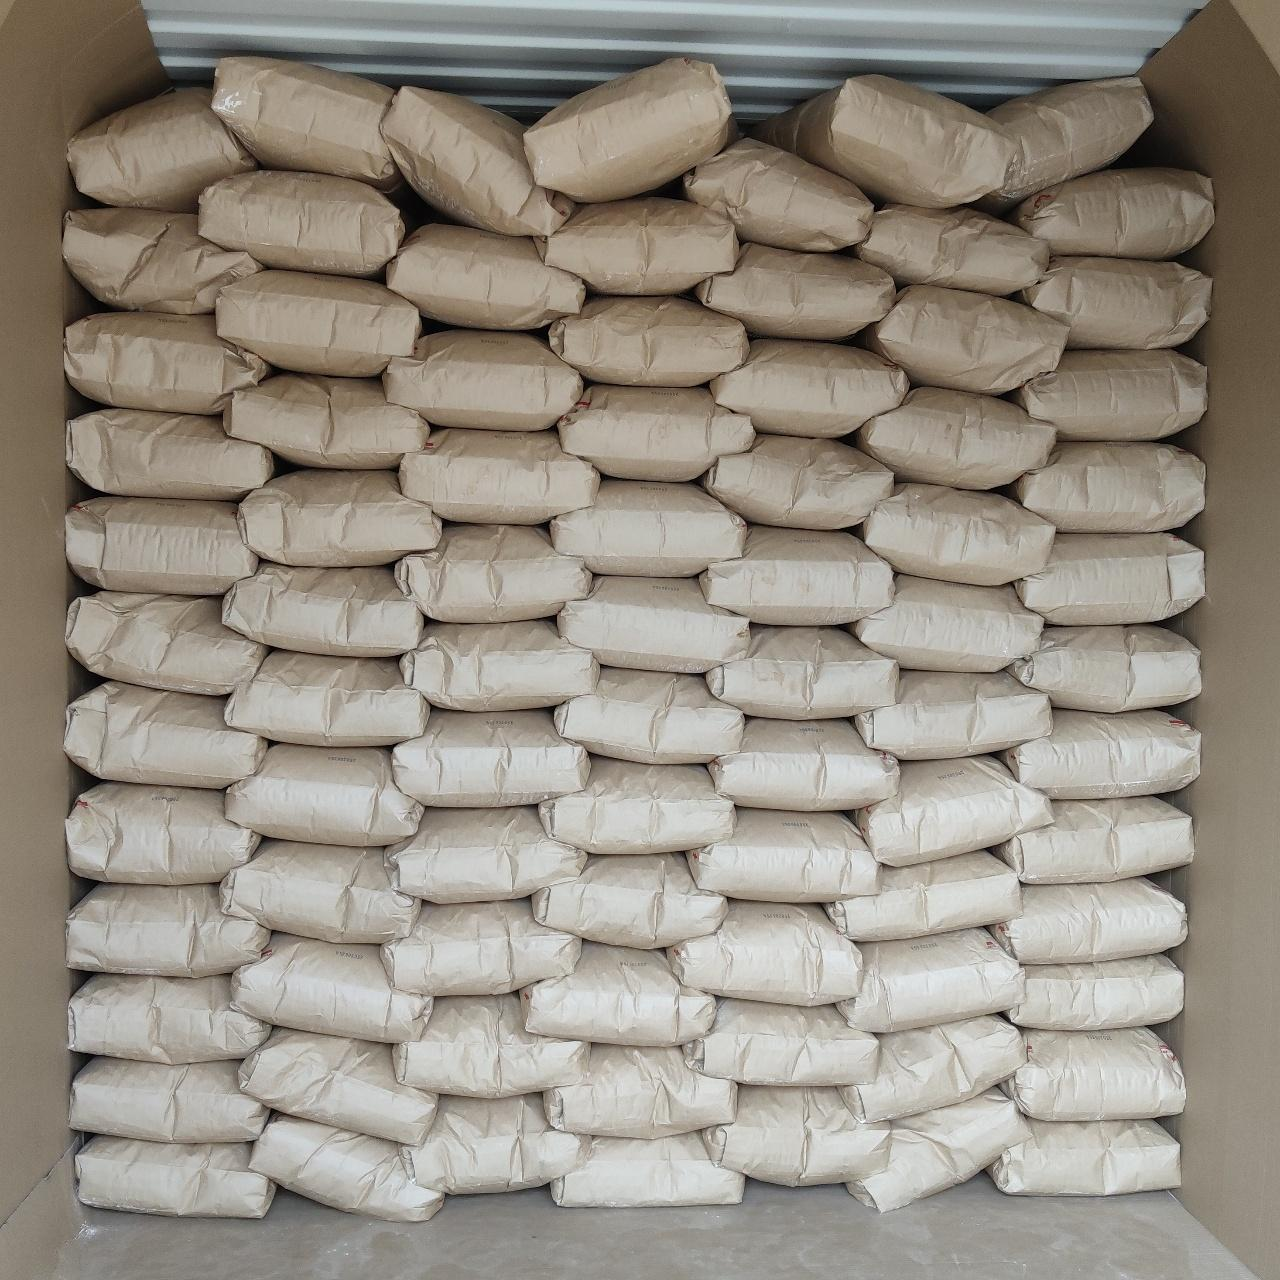sack: (758, 76, 1006, 206), (526, 58, 734, 198), (386, 88, 572, 234), (214, 56, 398, 186), (68, 88, 254, 208), (240, 1030, 436, 1142), (982, 78, 1150, 206), (200, 172, 406, 276), (218, 270, 420, 374), (232, 934, 430, 1040), (858, 288, 1062, 390), (852, 756, 1048, 862), (848, 1094, 1028, 1208), (66, 684, 262, 788), (64, 314, 270, 412), (684, 140, 870, 248), (854, 386, 1054, 486), (64, 208, 260, 310), (68, 592, 264, 694), (222, 840, 418, 942), (228, 744, 422, 846), (388, 224, 582, 326), (252, 1116, 442, 1220), (668, 902, 860, 1004), (384, 330, 582, 428), (394, 994, 588, 1094), (712, 338, 908, 436), (538, 198, 738, 294), (858, 484, 1052, 582), (240, 470, 438, 566), (696, 244, 894, 340), (226, 374, 428, 468), (522, 944, 710, 1044), (842, 1016, 1022, 1120), (400, 428, 598, 522), (382, 900, 580, 994), (226, 650, 428, 742), (68, 408, 274, 498), (702, 526, 894, 622), (542, 756, 734, 852), (68, 784, 260, 880), (394, 710, 586, 806), (396, 526, 590, 620), (388, 808, 582, 902), (840, 930, 1022, 1030), (66, 496, 254, 592), (552, 480, 744, 574), (534, 854, 726, 948), (68, 884, 268, 974), (1010, 168, 1214, 256), (850, 576, 1040, 670), (560, 576, 748, 670), (402, 1096, 590, 1190), (560, 386, 752, 478), (224, 564, 420, 654), (402, 620, 598, 710), (556, 668, 742, 762), (700, 1088, 886, 1182), (702, 434, 892, 526), (708, 626, 896, 718), (1010, 350, 1206, 438), (1002, 710, 1198, 798), (688, 810, 878, 900), (856, 670, 1050, 758), (852, 206, 1046, 294), (70, 976, 268, 1062), (550, 296, 748, 382), (1018, 258, 1210, 346), (828, 852, 1020, 940), (1010, 442, 1204, 528), (710, 720, 898, 808), (546, 1046, 734, 1134), (1016, 534, 1202, 622), (996, 798, 1190, 882), (72, 1058, 266, 1142), (684, 1000, 878, 1084), (1002, 1028, 1182, 1118), (992, 878, 1186, 960), (1010, 626, 1198, 710), (78, 1136, 274, 1214), (990, 1120, 1178, 1194), (552, 1134, 742, 1206), (1008, 954, 1182, 1030)
